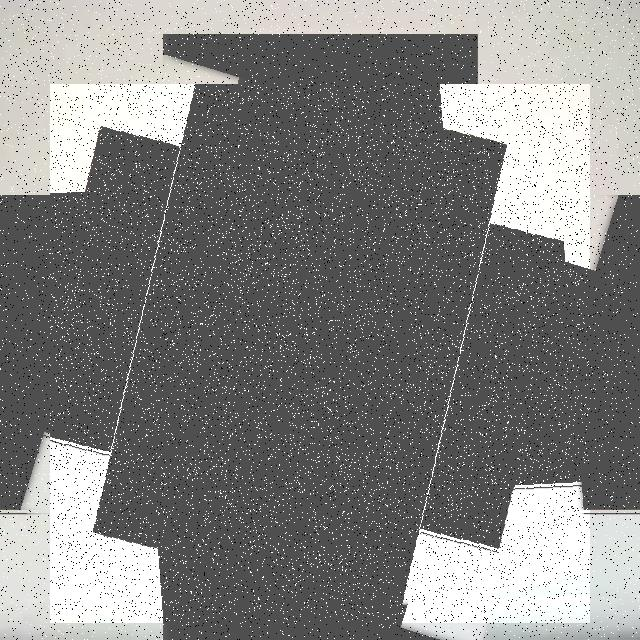dua puluh ribu rupiah: (50, 84, 590, 623)
